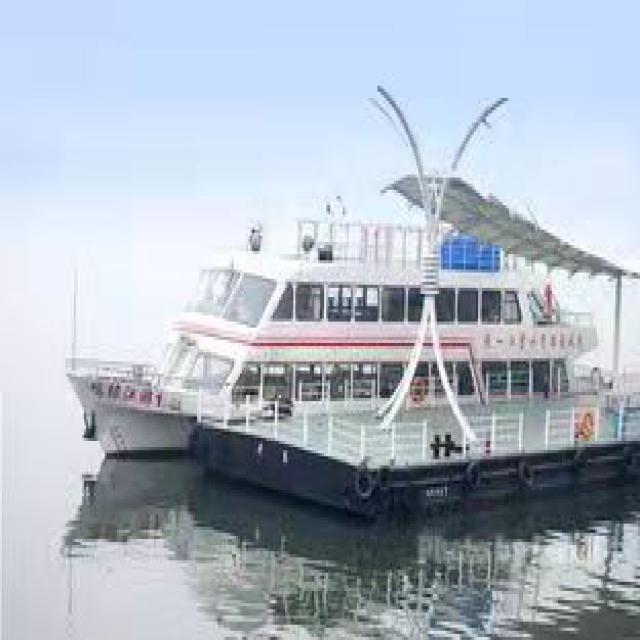passenger ship: (77, 152, 616, 463)
